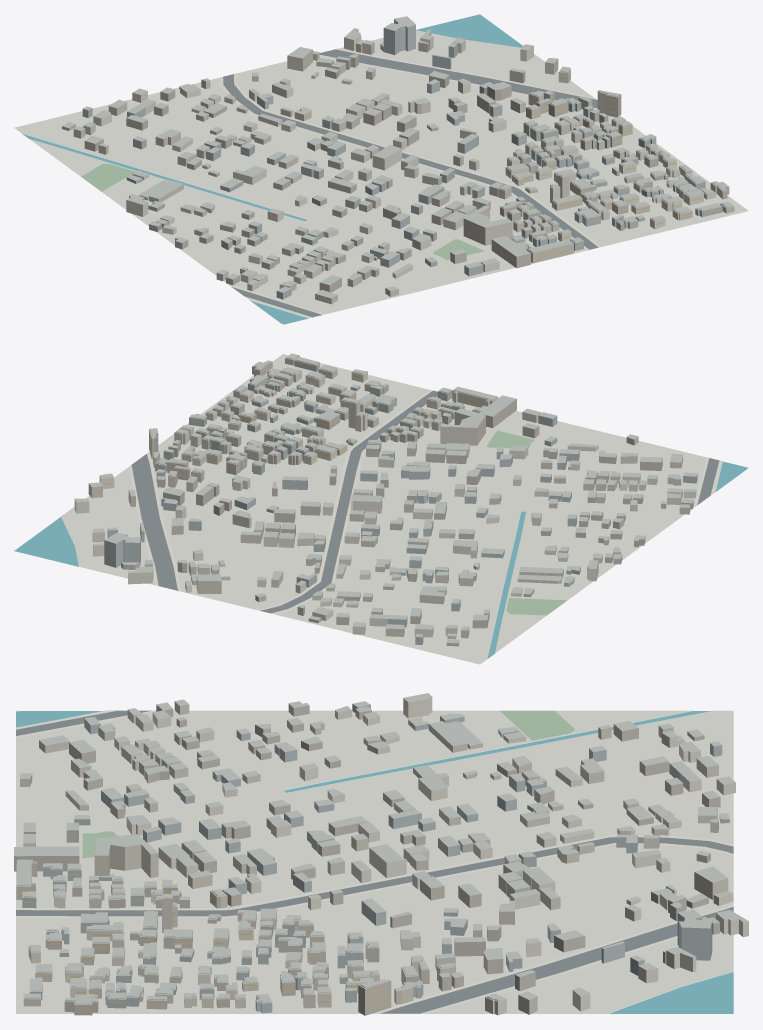
The picture shows the model from 3 angles, top to bottom: view 1: azimuth 30°, elevation 25°; view 2: azimuth 150°, elevation 25°; view 3: azimuth 270°, elevation 25°; orthographic projection. The views are drawn at different scales.
Visible parts, largest first — view 1: city; view 2: city; view 3: city.
Part boxes in pixels (x1,y1,x2,y2): city: [14, 14, 748, 324]; city: [14, 353, 748, 664]; city: [14, 693, 748, 1015].
Size of the model in its own units: 507 by 26.78 by 512.
